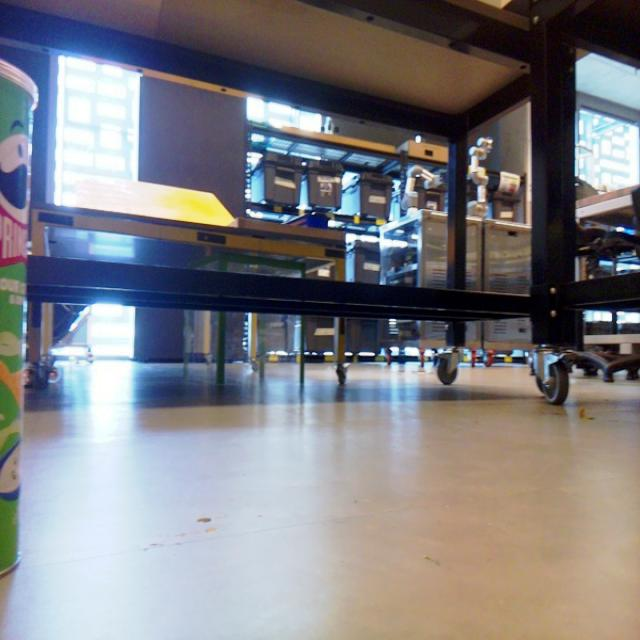greenpringles: (0, 46, 74, 601)
